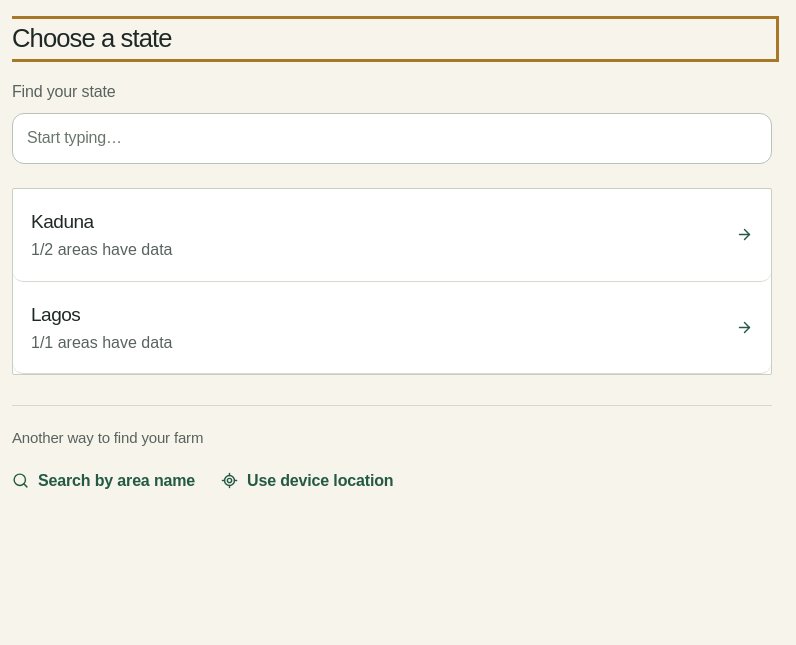
Scenario: shows one selector at a time and preserves selection as a confirmation on return
This screenshot has width=796, height=645.
Later steps or results of the test are not shown.
Check: the number of fields is 1, box [12,113,772,164]
Click the button "Kaduna 1/2 areas have data": (62, 221) [13,189,771,282]
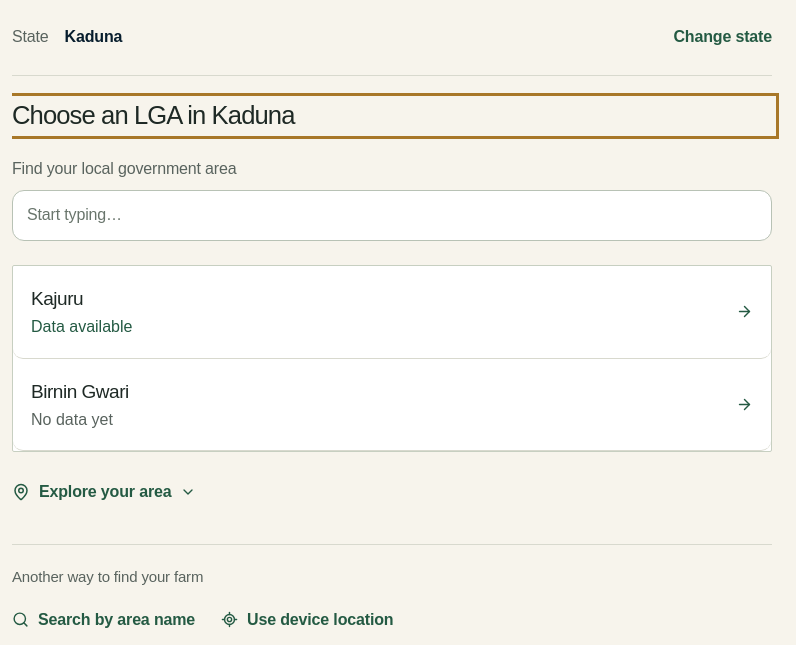
Check: the button "Lagos 1/1" is gone
Click the button "Kajuru Data available": (57, 298) [13,266,771,358]
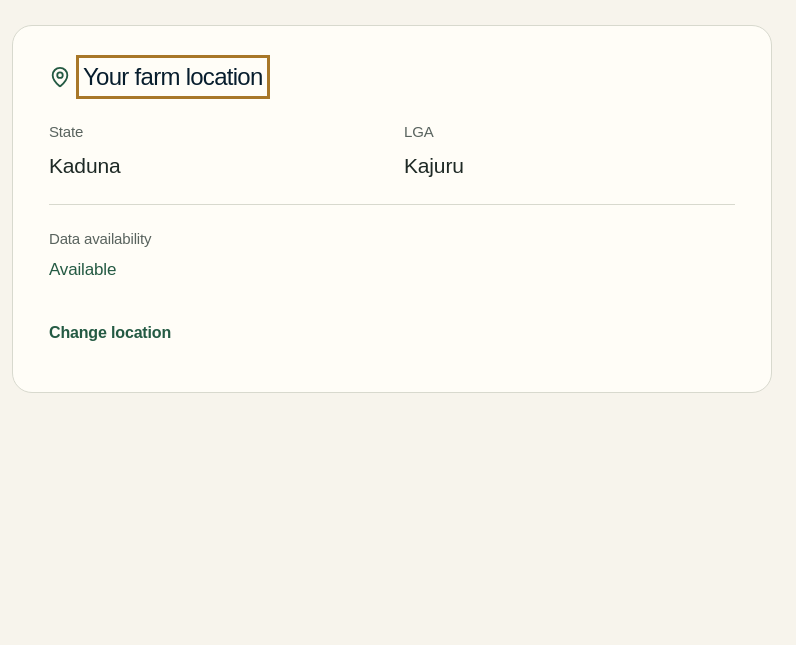
Check: the element "Your farm location" shows "Kaduna", box [49,154,120,177]
Check: the element "Your farm location" shows "Kajuru", box [404,154,464,177]
Check: the field is gone
